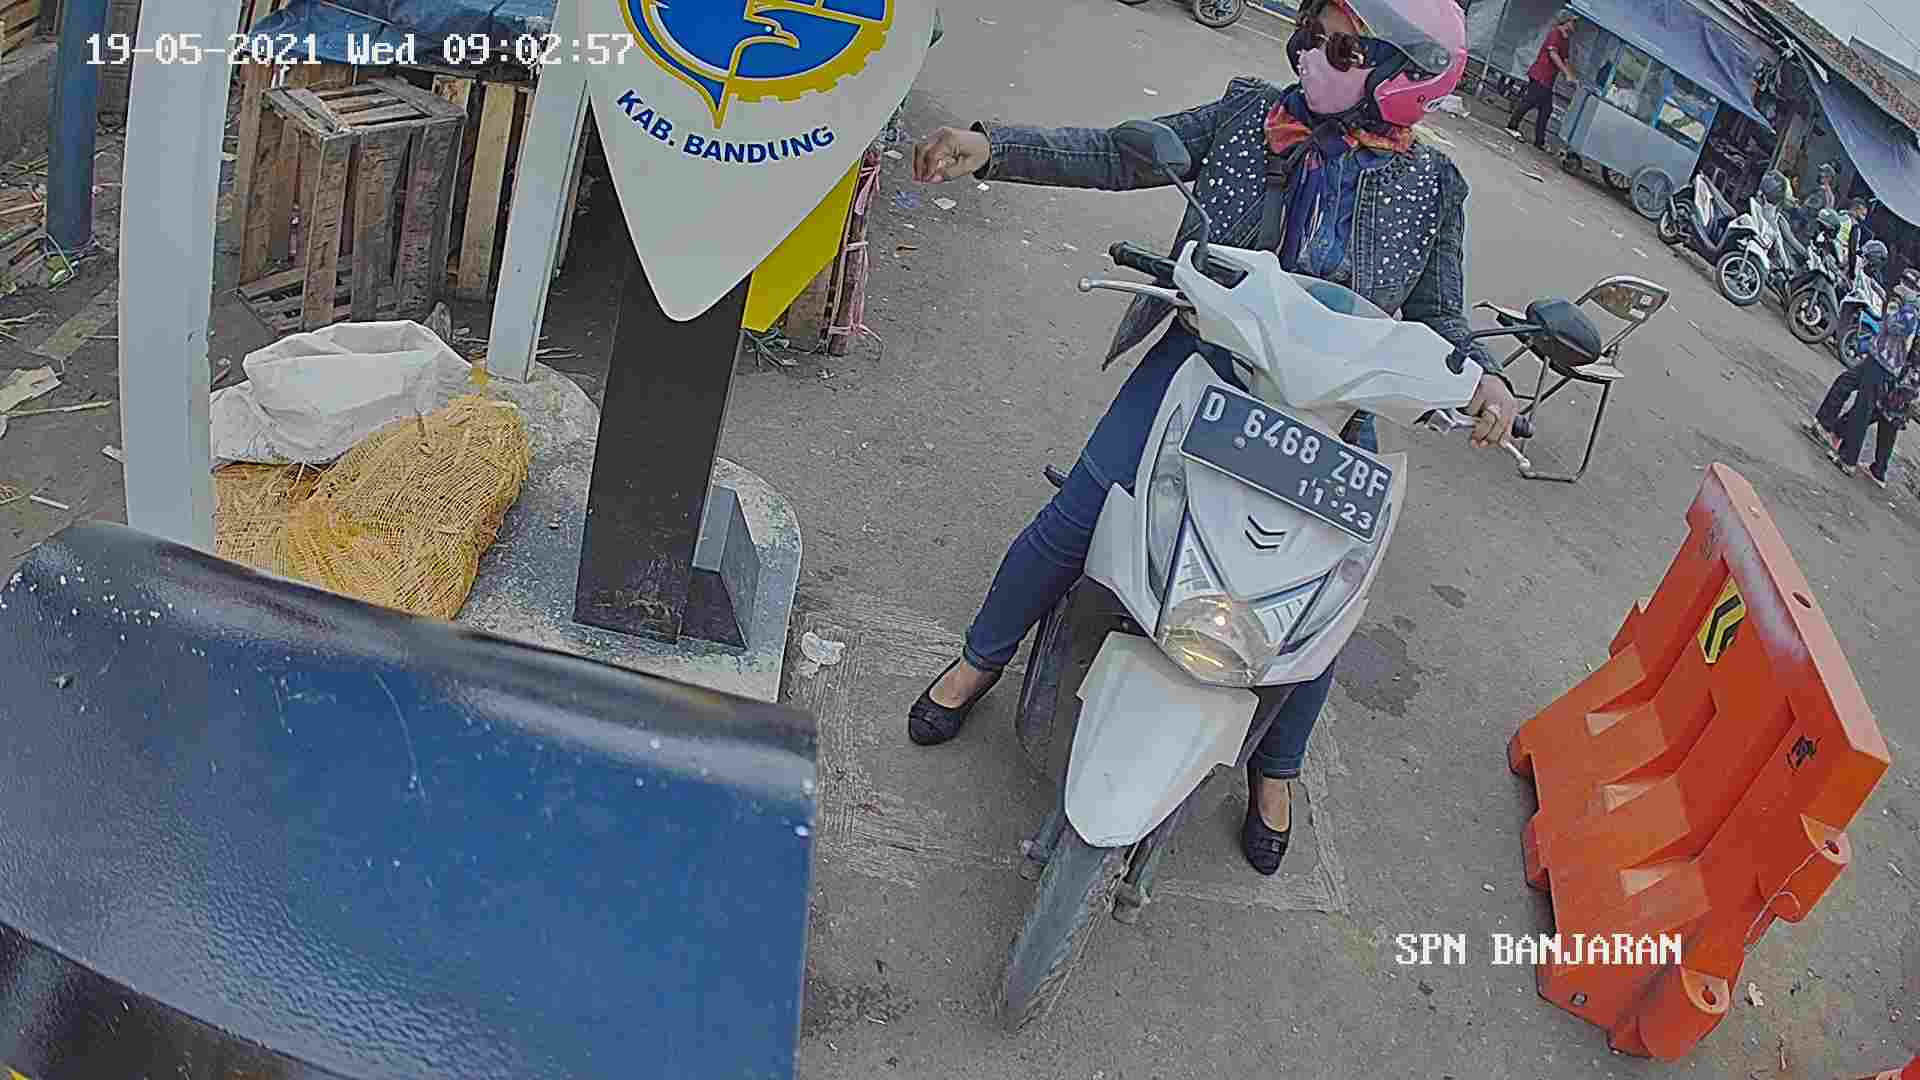motor: (1007, 225, 1419, 1009)
